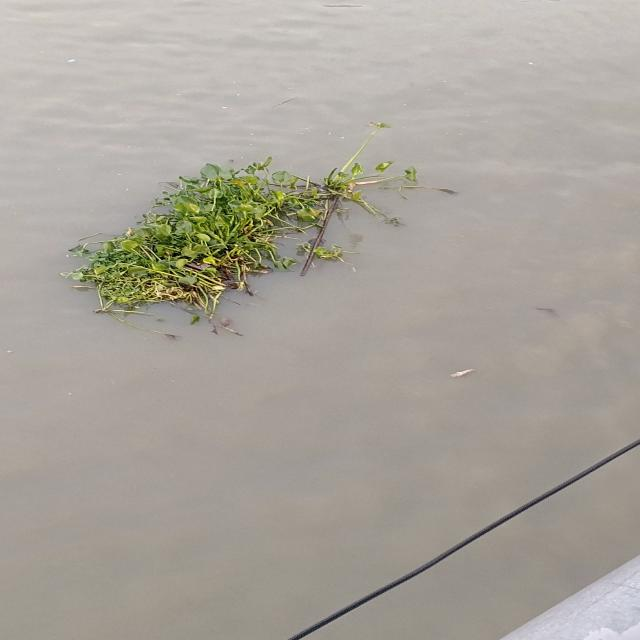Biological Debris: (448, 366, 476, 380)
Organic Debris: (46, 107, 464, 345), (293, 178, 352, 288)
Plastic: (272, 95, 304, 113), (63, 56, 79, 64)
